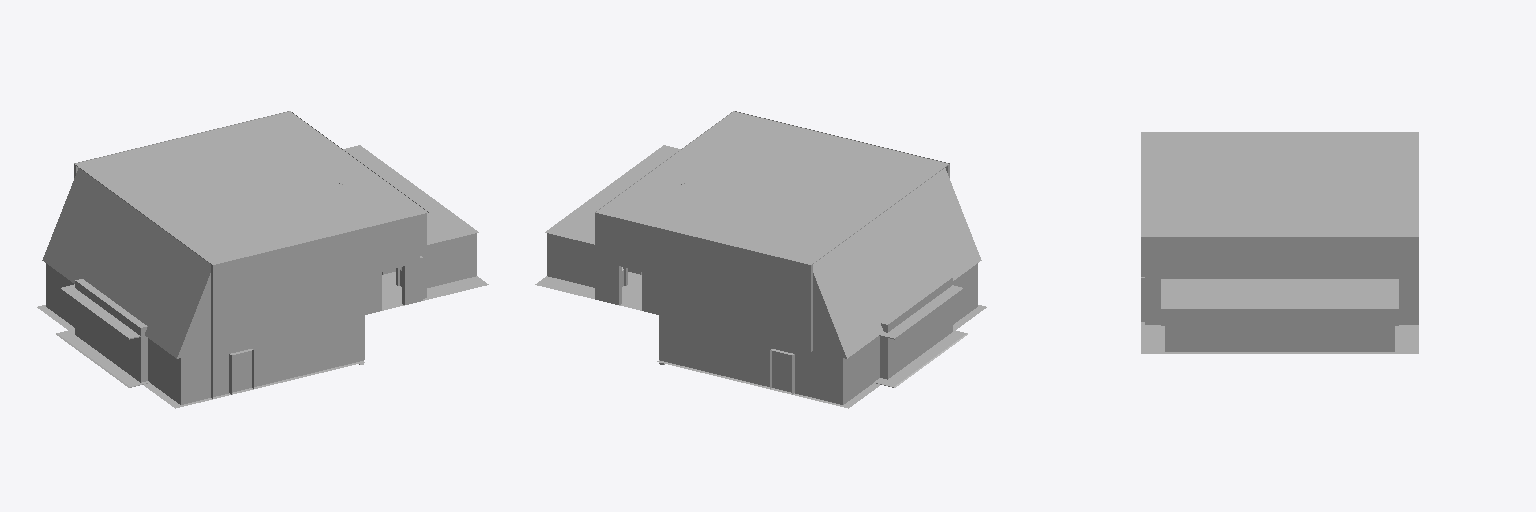
Rendered from LC_room2_hall.obj.
3 views of the same model, side by side, from view 1: azimuth 30°, elevation 25°; view 2: azimuth 150°, elevation 25°; view 3: azimuth 270°, elevation 25° (orthographic).
Parts seen in each view (by area): view 1: LC_room2_hall; view 2: LC_room2_hall; view 3: LC_room2_hall.
Boxes of the visible parts, box(x1,y1,x2,y2) form: LC_room2_hall: box(37, 111, 488, 408); LC_room2_hall: box(535, 111, 986, 408); LC_room2_hall: box(1141, 132, 1418, 353).
Size of the model in its own units: 27.22 by 10.98 by 20.